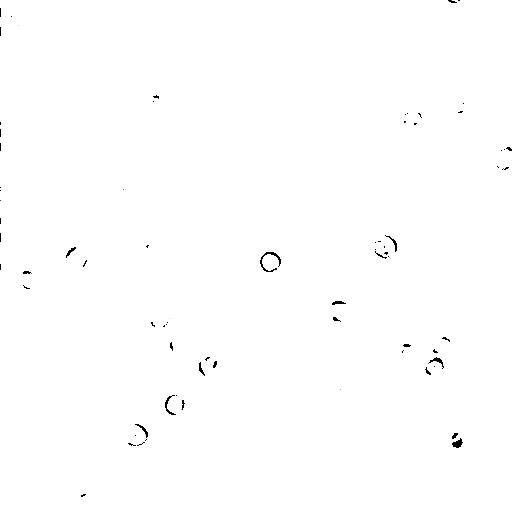micro-algae: (183, 423, 299, 512), (395, 313, 470, 391), (0, 371, 43, 442), (44, 330, 77, 371), (2, 225, 27, 275), (59, 245, 90, 275), (148, 300, 174, 332), (0, 9, 29, 36), (119, 422, 150, 446), (168, 334, 195, 360), (372, 234, 398, 260), (121, 172, 145, 200), (326, 299, 354, 323), (197, 354, 220, 379), (17, 269, 43, 291), (492, 144, 512, 172), (259, 250, 282, 274), (163, 393, 187, 416), (430, 335, 453, 357), (424, 357, 446, 379), (131, 233, 151, 257), (446, 93, 467, 115), (76, 492, 99, 512), (366, 51, 385, 75), (401, 110, 423, 129), (449, 429, 467, 452), (400, 342, 421, 361), (138, 0, 166, 13), (326, 387, 347, 404), (2, 122, 10, 146), (446, 1, 463, 6)
